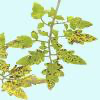Tomato Septoria leaf spot: (0, 72, 52, 99), (3, 31, 42, 54), (42, 58, 66, 94), (15, 47, 48, 71), (62, 29, 99, 46), (54, 48, 90, 65), (65, 14, 99, 31), (5, 66, 33, 82), (28, 3, 50, 23)
